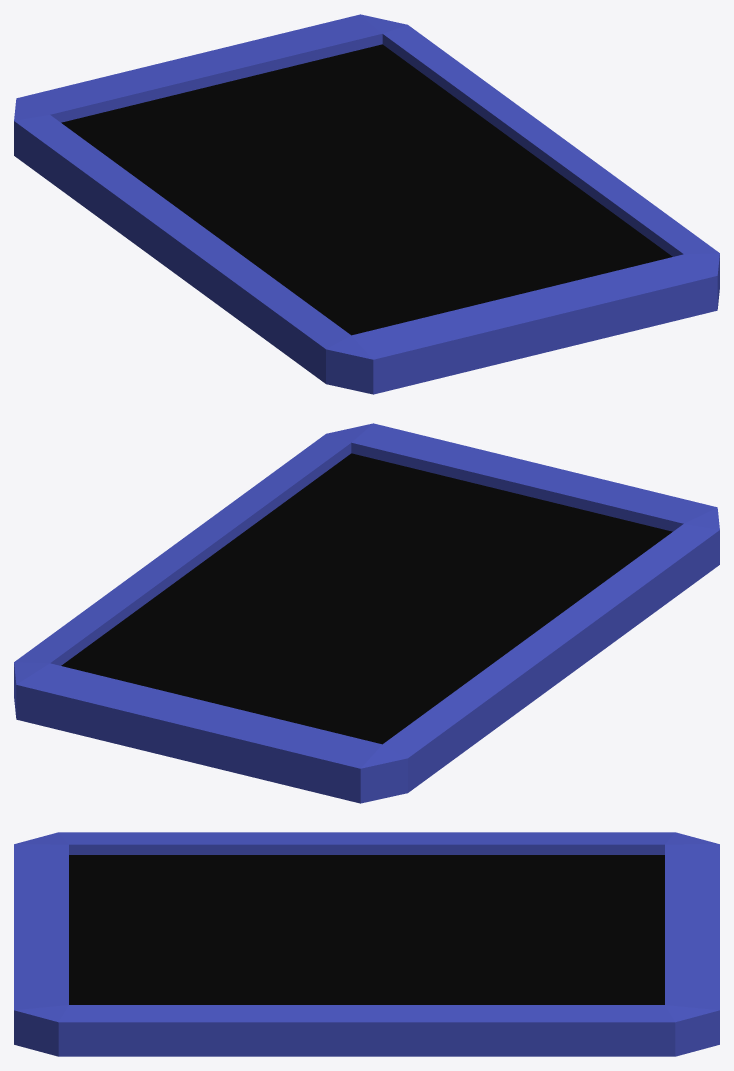
Rendered from Tablet.fbx.
The picture shows the model from 3 angles, top to bottom: view 1: azimuth 30°, elevation 25°; view 2: azimuth 150°, elevation 25°; view 3: azimuth 270°, elevation 25°; orthographic projection.
Visible parts, largest first — view 1: Cube; view 2: Cube; view 3: Cube.
Boxes of the visible parts, left/top/right/bottom form: Cube: left=14, top=14, right=719, bottom=394; Cube: left=14, top=423, right=719, bottom=803; Cube: left=14, top=832, right=719, bottom=1056.
Bounding box in the file's own units: 248 × 23.94 × 389.
